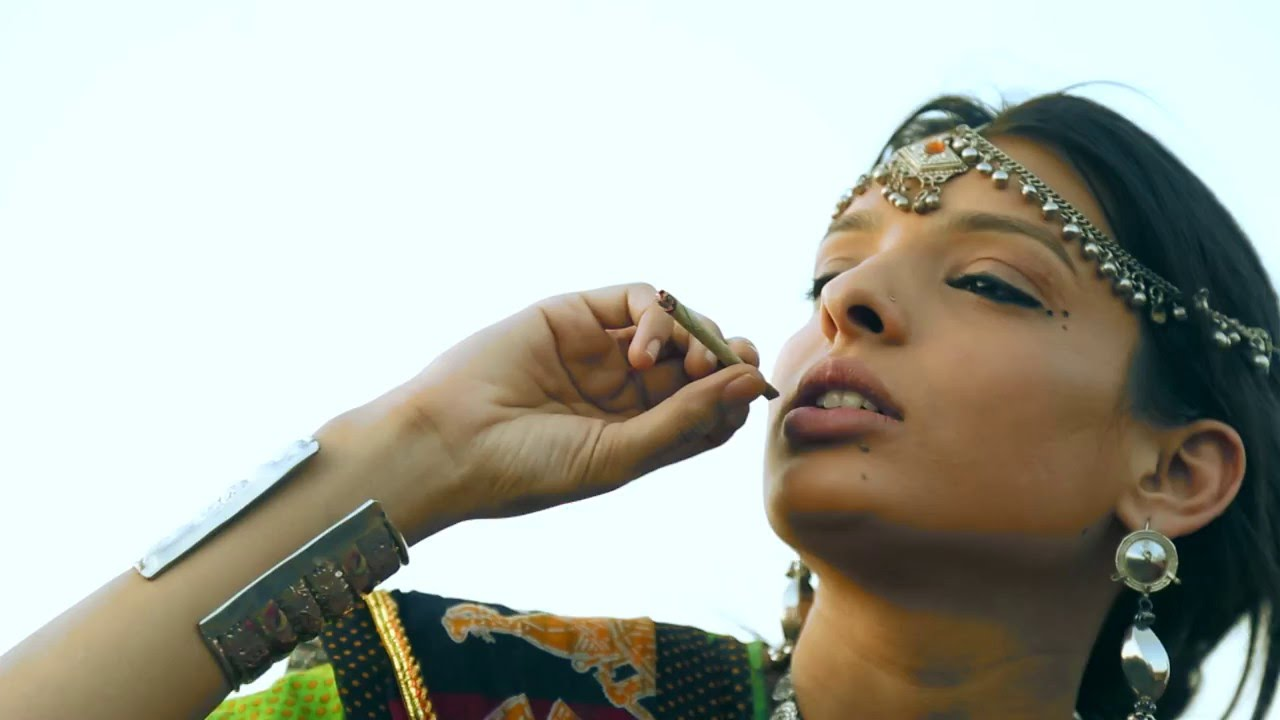cigarette: (651, 283, 797, 422)
